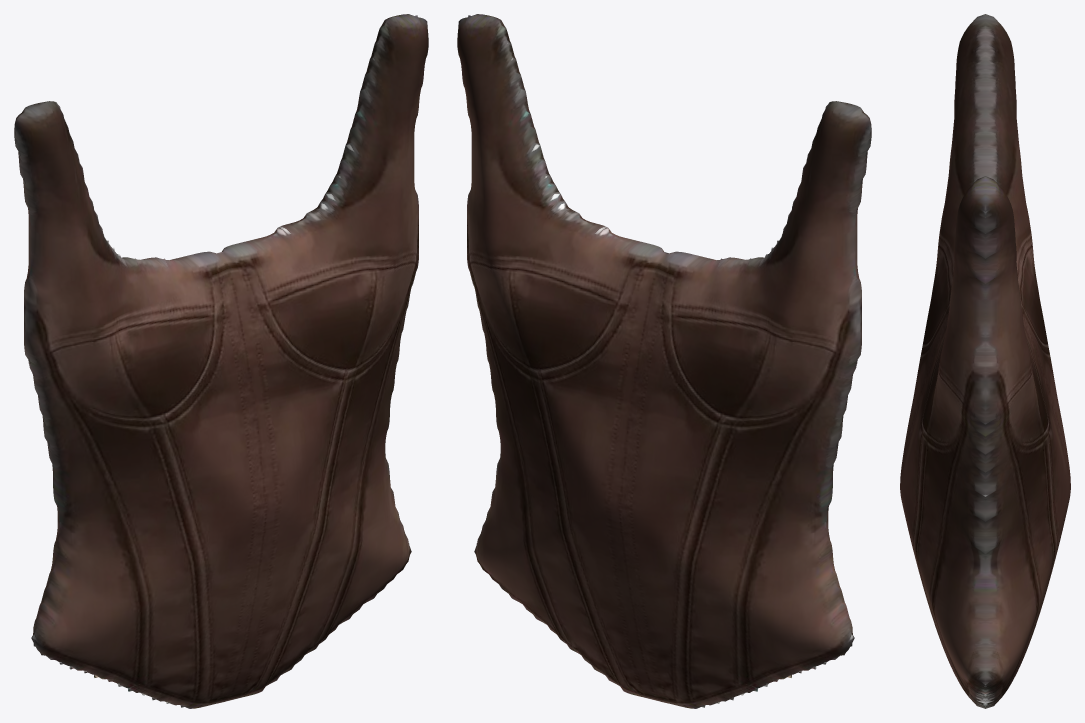
File: prod-ae-espresso-corset.glb
3 views of the same model, side by side, from view 1: azimuth 30°, elevation 25°; view 2: azimuth 150°, elevation 25°; view 3: azimuth 270°, elevation 25° (orthographic). The views are drawn at different scales.
Parts seen in each view (by area): view 1: prod-ae-espresso-corset_standalone; view 2: prod-ae-espresso-corset_standalone; view 3: prod-ae-espresso-corset_standalone.
Part boxes in pixels (box(x1,y1,x2,y2)): prod-ae-espresso-corset_standalone: box(14, 14, 428, 708); prod-ae-espresso-corset_standalone: box(457, 14, 871, 708); prod-ae-espresso-corset_standalone: box(900, 14, 1070, 708).
Size of the model in its own units: 0.2804 by 0.418 by 0.1086.
1 material, 1 textured.
